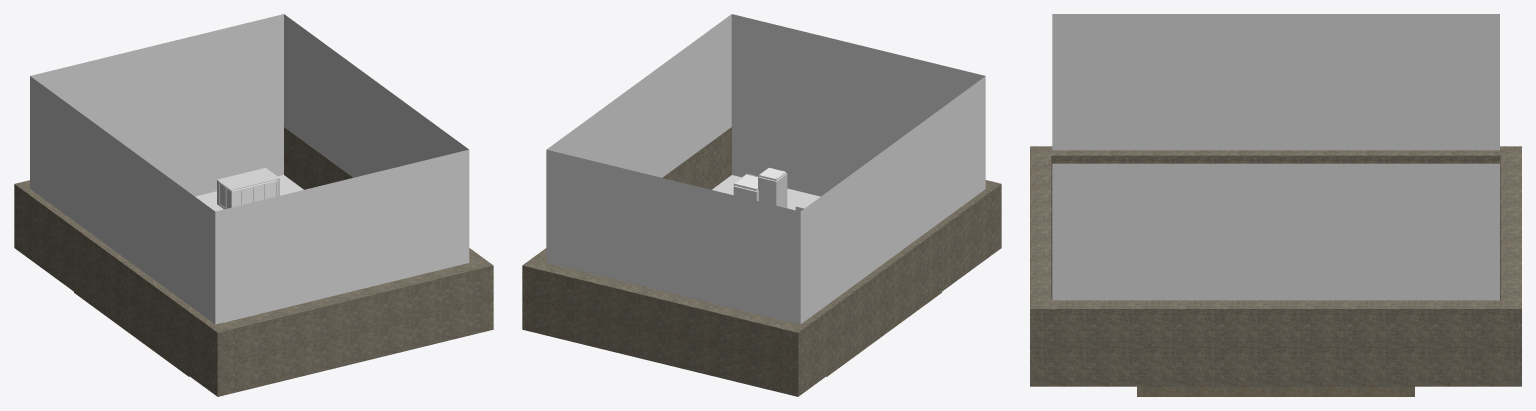
File: untауаааitled.fbx
3 views of the same model, side by side, from view 1: azimuth 30°, elevation 25°; view 2: azimuth 150°, elevation 25°; view 3: azimuth 270°, elevation 25° (orthographic). The views are drawn at different scales.
Visible parts, largest first — view 1: Plane, worldspawn_1, Cube.013; view 2: Plane, worldspawn_1, Cube.007; view 3: Plane, worldspawn_1.
Part boxes in pixels (x1,y1,x2,y2): Plane: (30,14,469,324); worldspawn_1: (14,127,493,396); Cube.013: (217,168,279,208); Plane: (546,14,985,324); worldspawn_1: (522,127,1001,396); Cube.007: (758,173,787,208); Plane: (1052,14,1499,300); worldspawn_1: (1030,146,1521,396).
Size of the model in its own units: 1152 by 840 by 1472.
